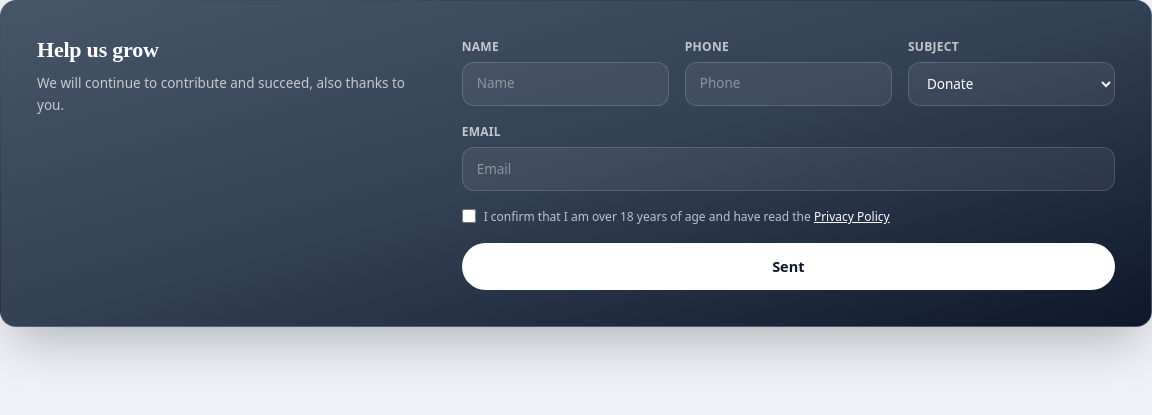
Scenario: HelpUsGrowForm › blocks submission until the 18+/privacy-policy consent checkbox is checked
This screenshot has width=1152, height=415.
Type "Jamie Rivera" into the field with placeholder "Name".
click(565, 84); type("Jamie Rivera")  # box top-left (462, 62), bottom-right (669, 106)
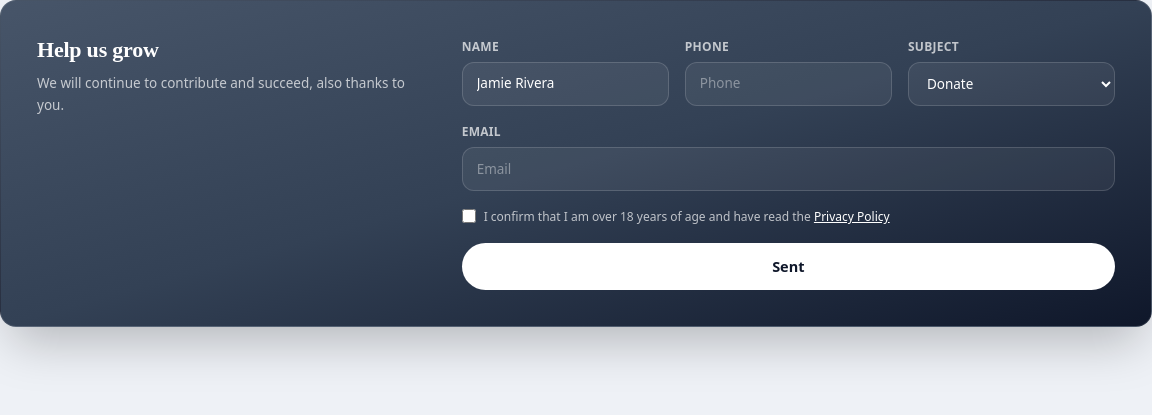
Type "jamie@example.com" into the field with placeholder "Email".
click(788, 169); type("jamie@example.com")  # box top-left (462, 147), bottom-right (1115, 191)
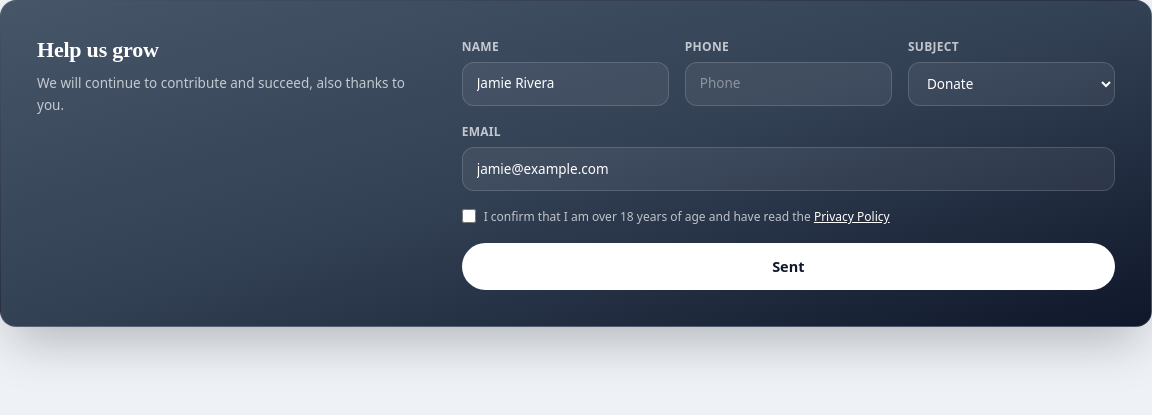
Click the button "Sent".
click(788, 266)  # box top-left (462, 243), bottom-right (1115, 290)
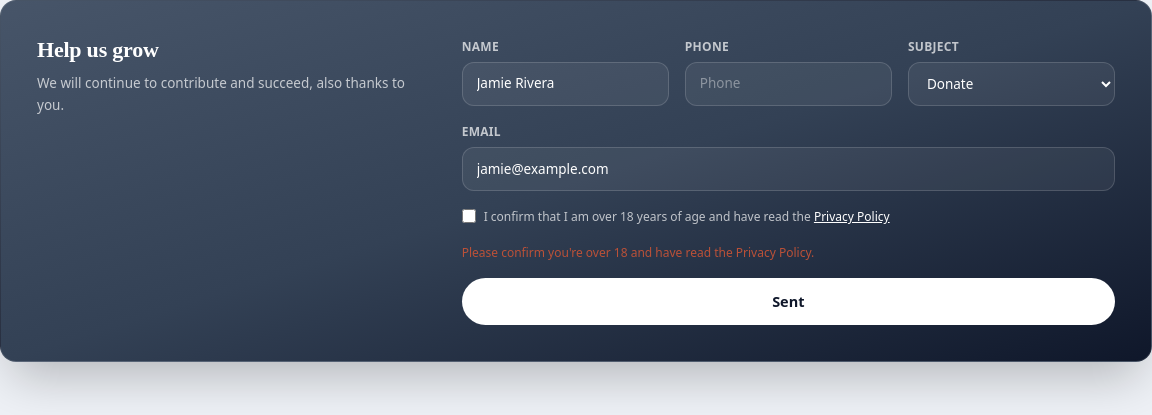
Expected: the text "Please confirm you're over 18" is shown, top-left (462, 244), bottom-right (814, 261)
